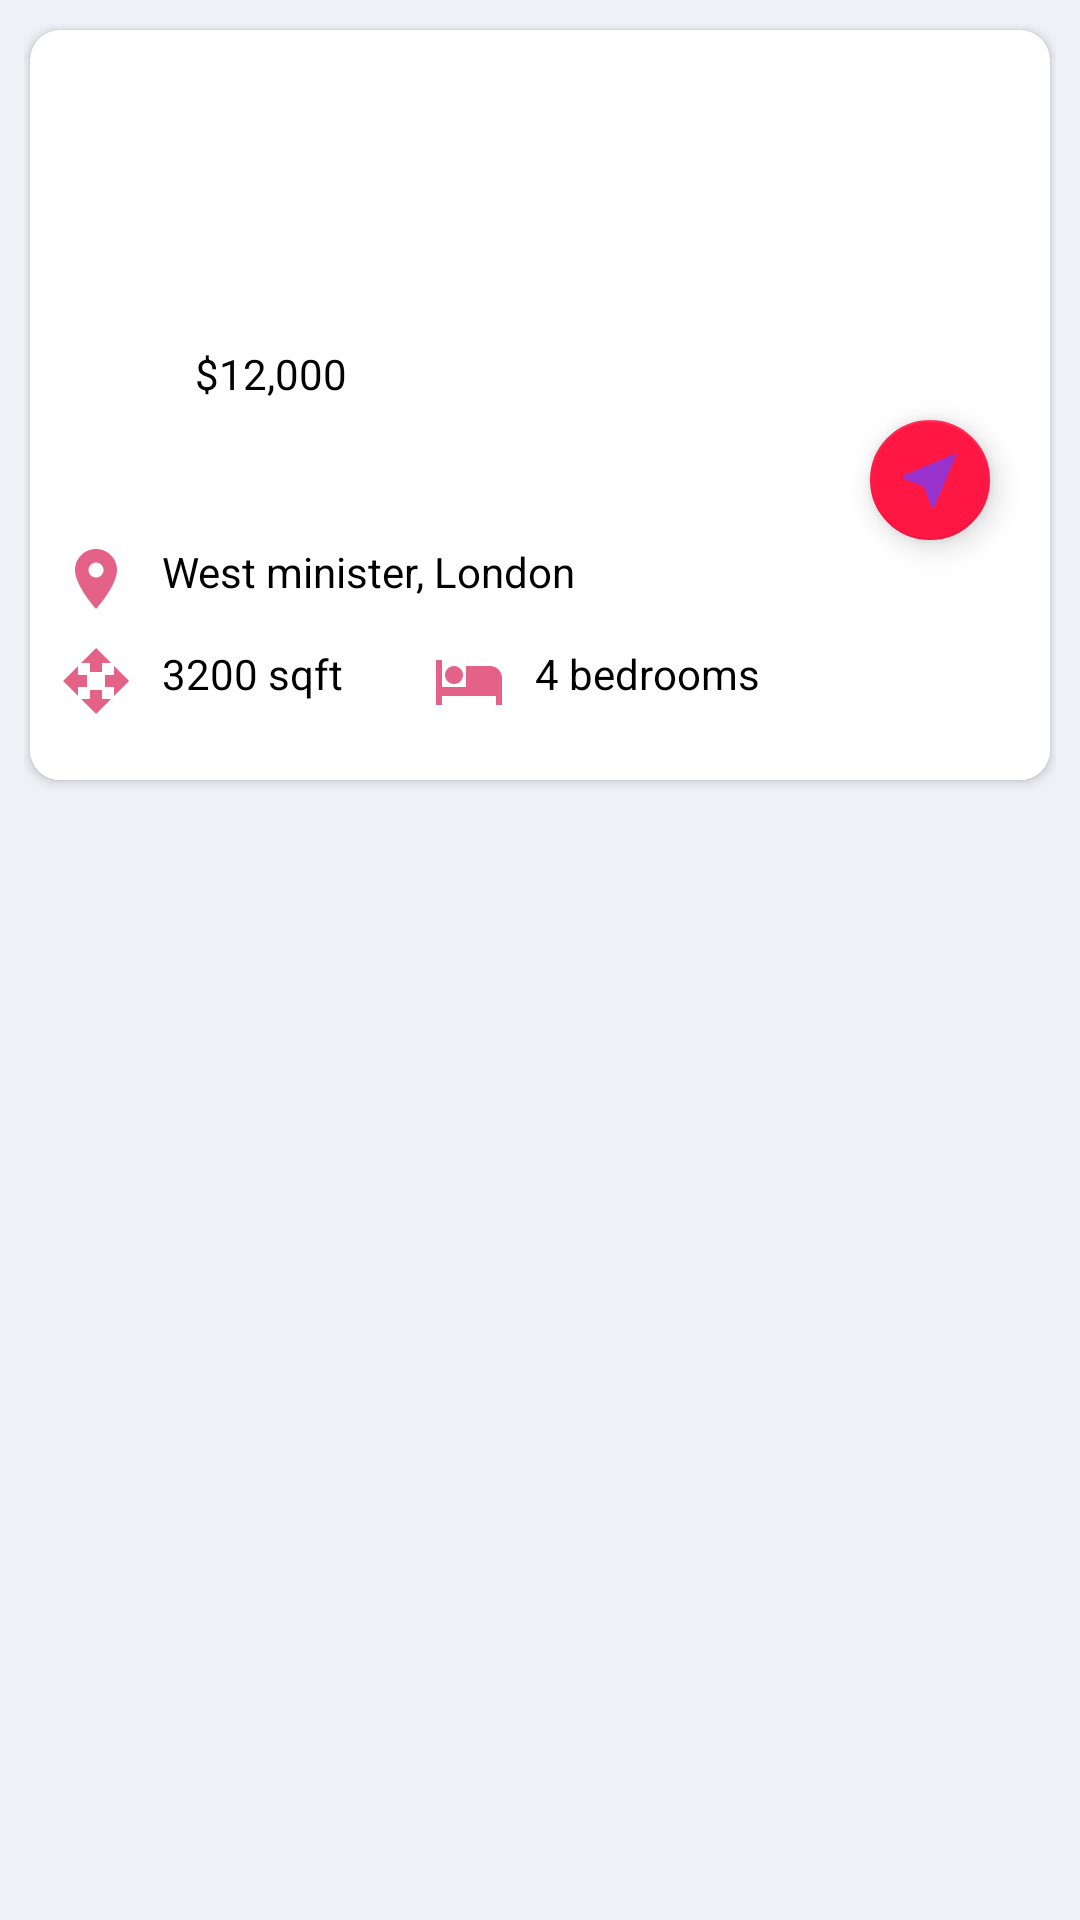

Icon bounding boxes for this 1080w x 1920h phone screenshot, format (x1, y1, x2, y2):
local hotel: (436, 660, 502, 705)
location: (75, 549, 117, 609)
near me: (870, 420, 990, 540)
open with: (63, 648, 129, 714)
